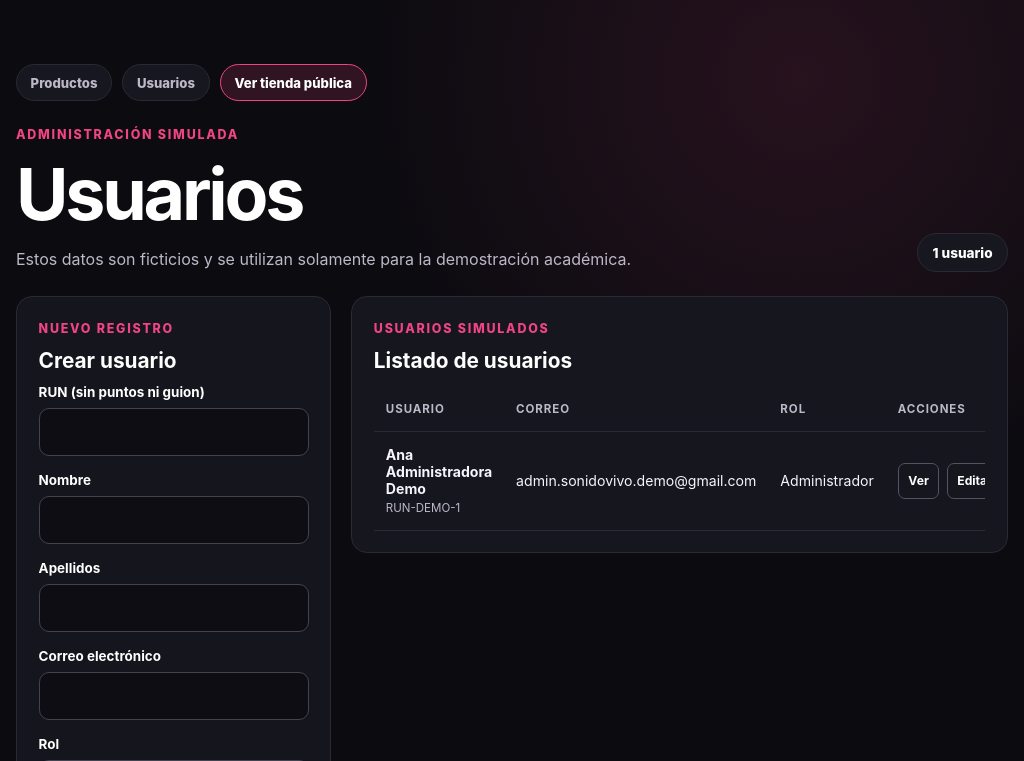
administración de usuarios › lista y consulta un usuario
Expected: the text "Ana Administradora Demo" is shown, [386,446,492,497]
Click the button "Ver": (919, 481) [898,463,940,499]
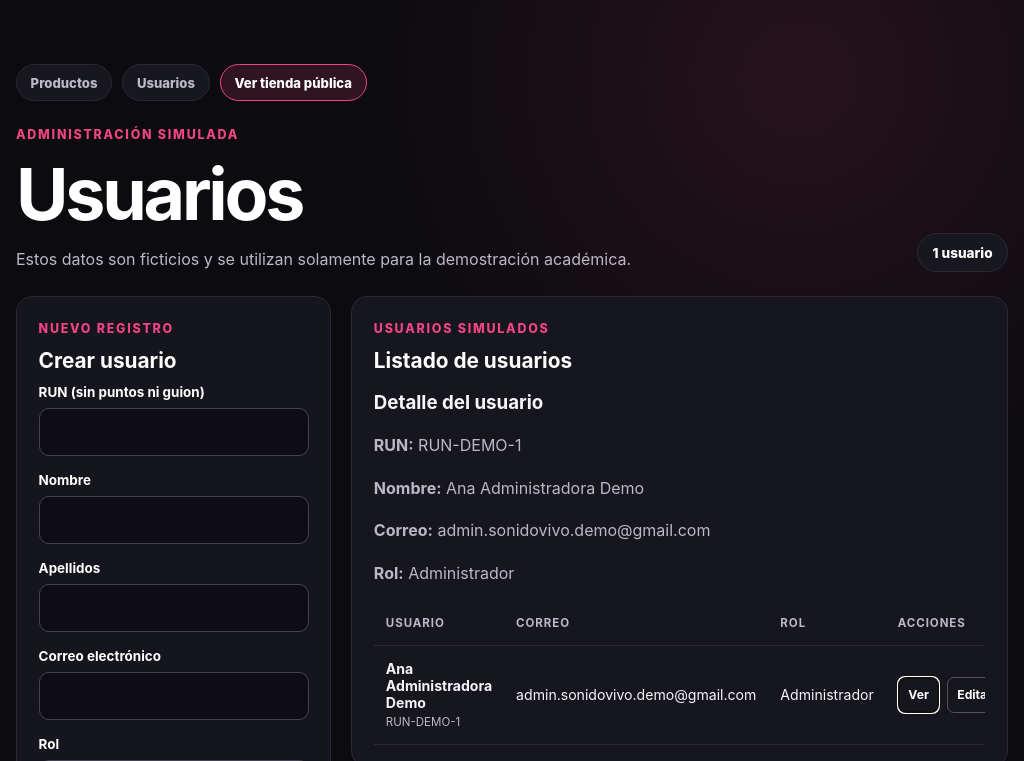
Now the heading "Detalle del usuario" is shown, box [374,391,543,414]
Now the text "admin.sonidovivo.demo@gmail.com" is shown 2 times, box [374,520,710,540]; [504,645,768,744]
